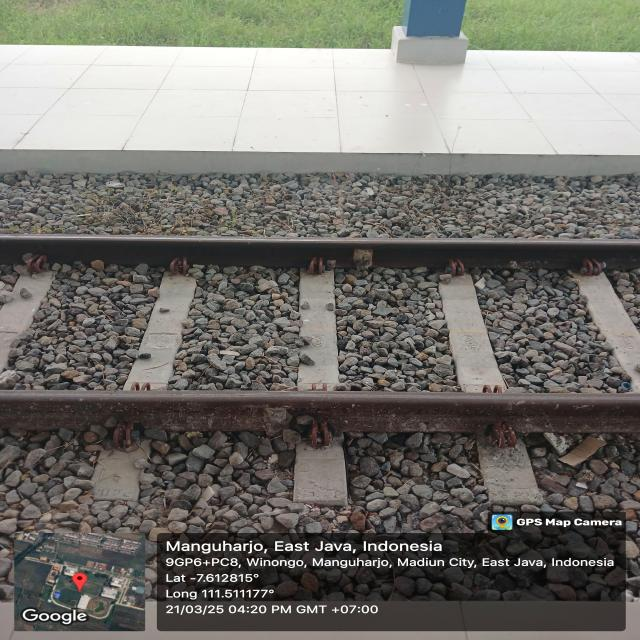rail-detection: (0, 390, 640, 434), (0, 234, 640, 271)
